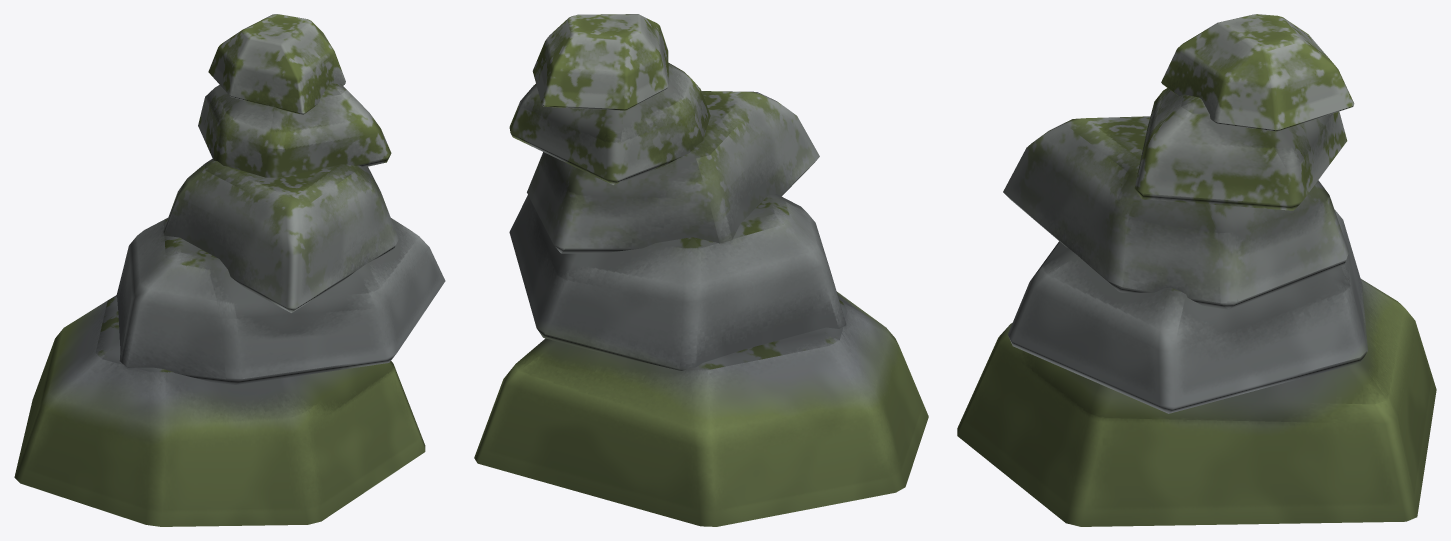
The model's file is stack_2_mossy.glb.
3 views of the same model, side by side, from view 1: azimuth 30°, elevation 25°; view 2: azimuth 150°, elevation 25°; view 3: azimuth 270°, elevation 25° (orthographic). The views are drawn at different scales.
Parts seen in each view (by area): view 1: stack_2_mossy; view 2: stack_2_mossy; view 3: stack_2_mossy.
Part boxes in pixels (left/top/right/bottom): stack_2_mossy: left=14, top=14, right=445, bottom=526; stack_2_mossy: left=474, top=14, right=928, bottom=526; stack_2_mossy: left=957, top=14, right=1436, bottom=526.
Bounding box in the file's own units: 1.2 × 1.1 × 1.05.
1 material, 1 textured.
